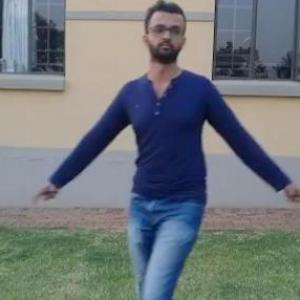land: (9, 0, 284, 299)
